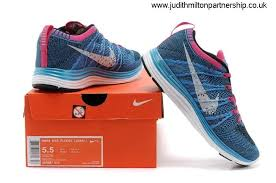nike: (181, 35, 225, 138), (64, 36, 127, 79), (127, 93, 157, 110)
